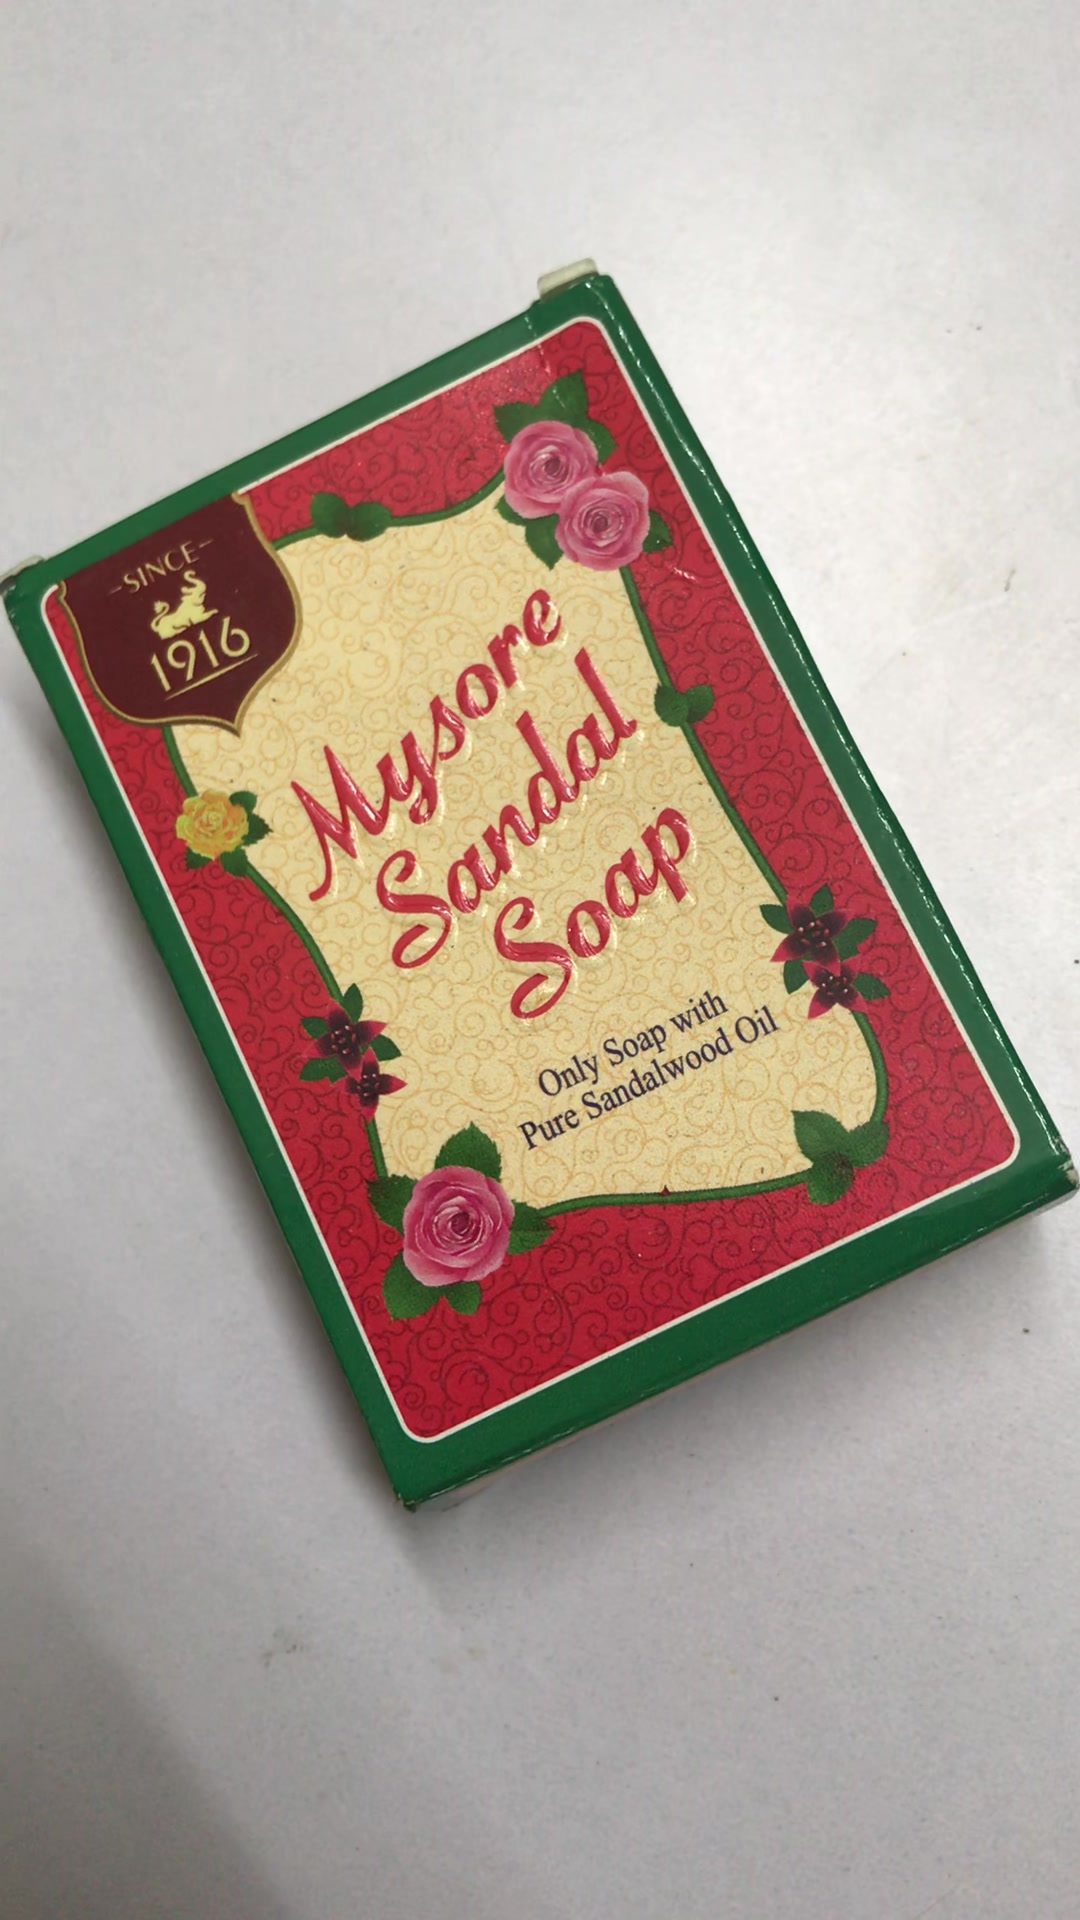mysore sandal soap: (11, 284, 1080, 1513)
